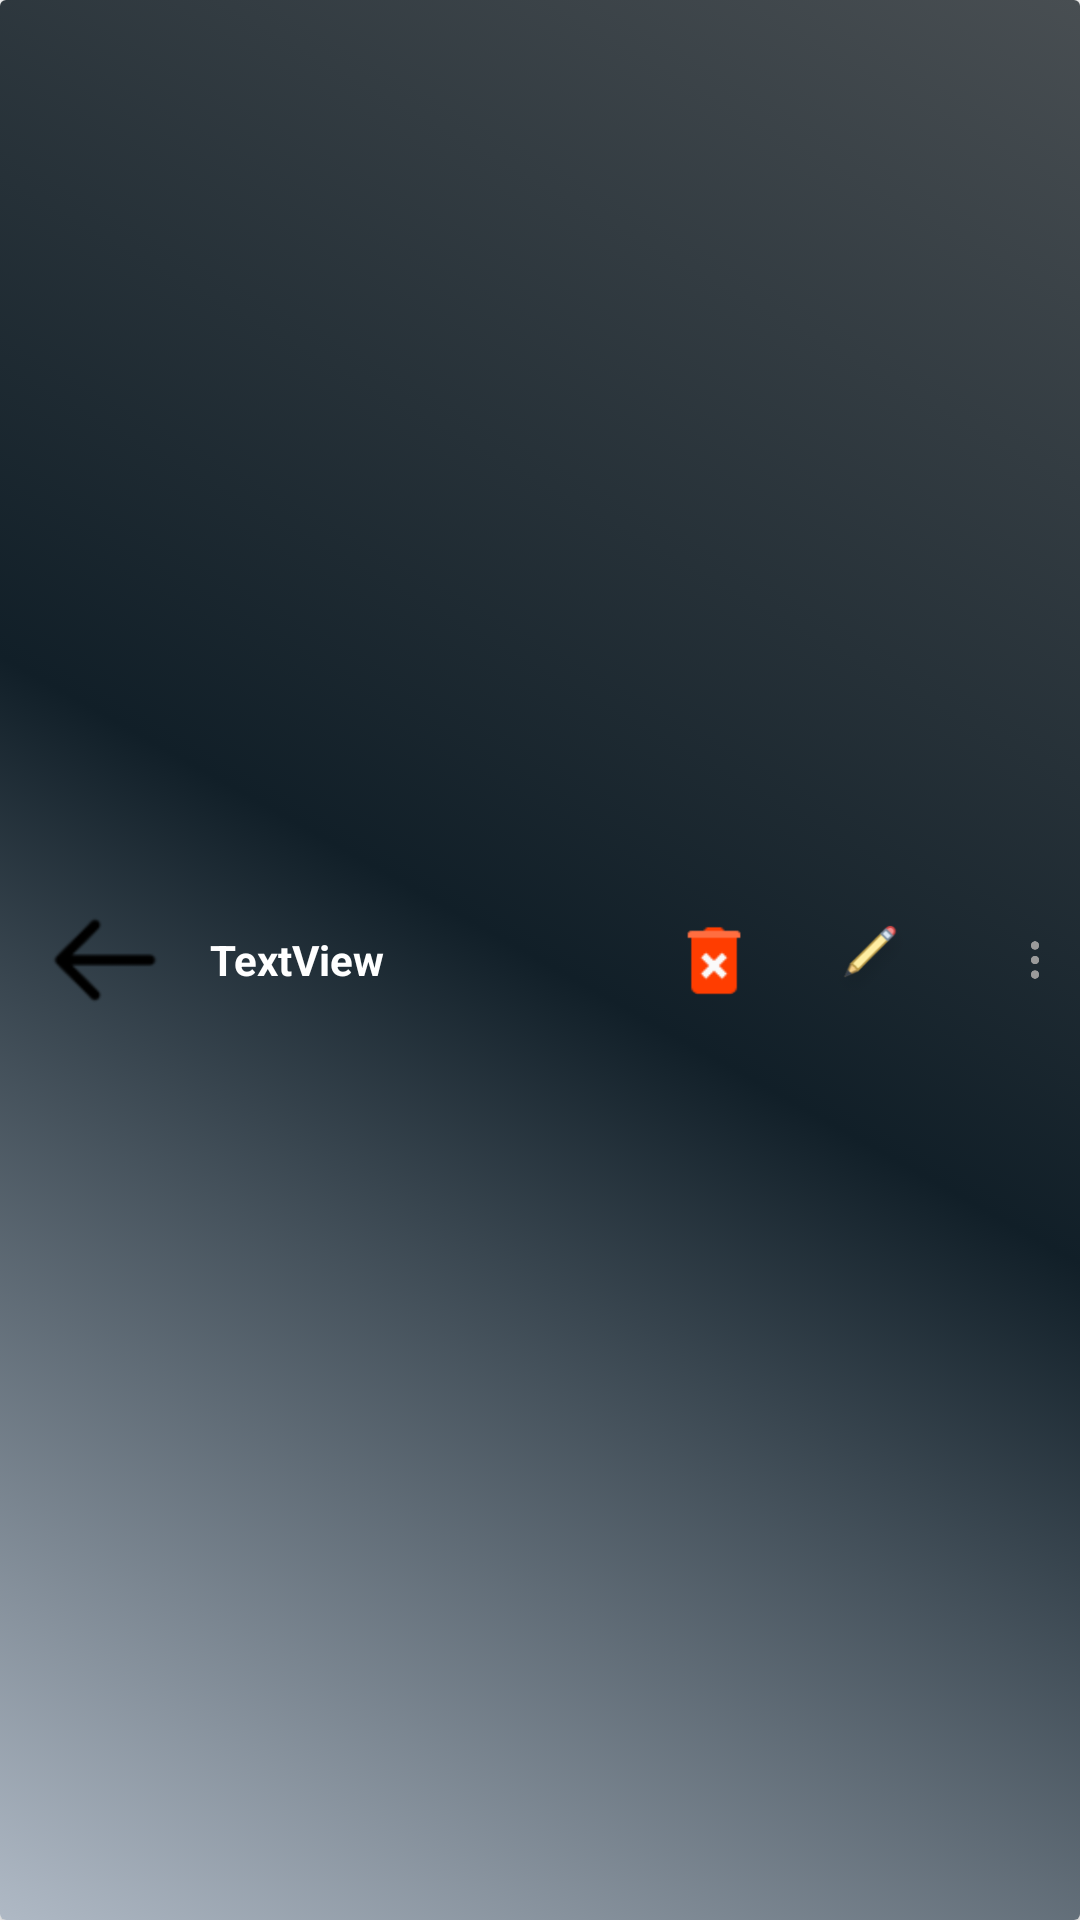

Locate icon controls on the screen. Image size 1080px x 1920px, boxes as (x1, y1, x2, y2).
delete: (687, 927, 741, 995)
edit: (845, 926, 896, 977)
